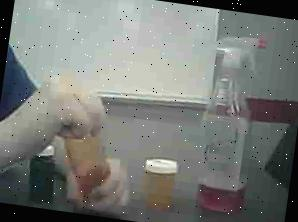Bottle B: (57, 129, 120, 201), (136, 152, 184, 218)
Bottle C: (22, 140, 60, 206)
hazard: (190, 25, 281, 220)
